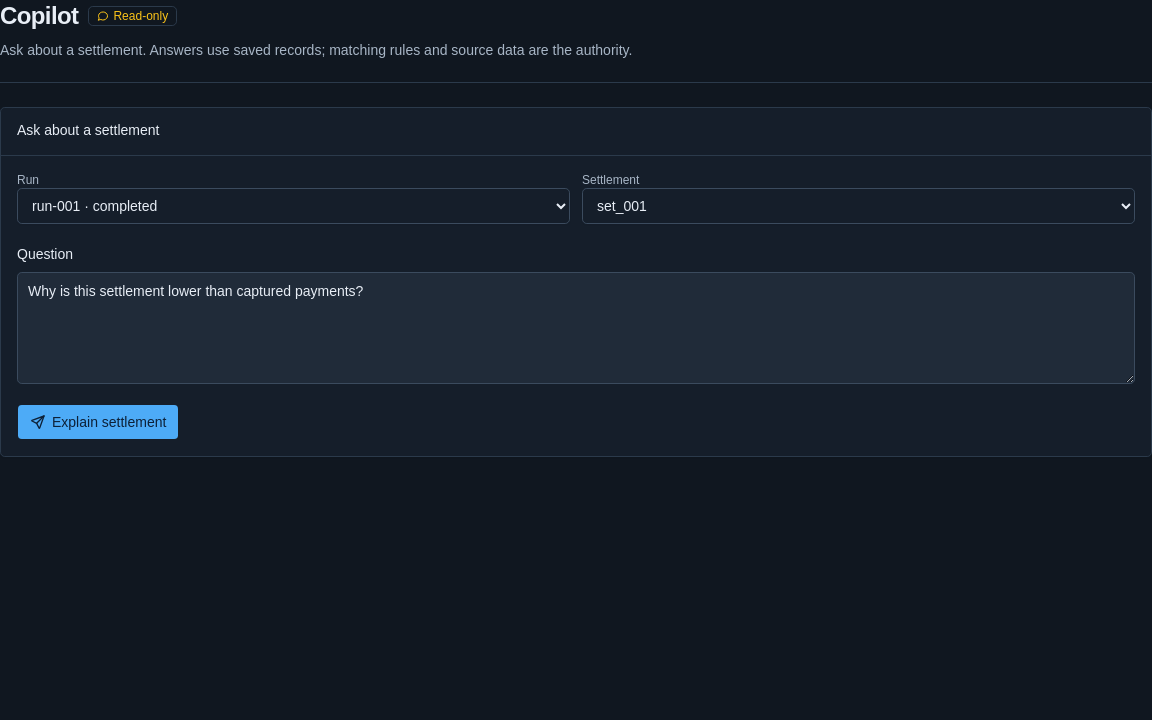
Test: Copilot page › renders a grounded answer with clickable citations and calculation
Check: the heading "Copilot" is shown, box left=0, top=0, right=78, bottom=32
Click the button "Explain settlement": click(98, 422) left=17, top=404, right=179, bottom=440
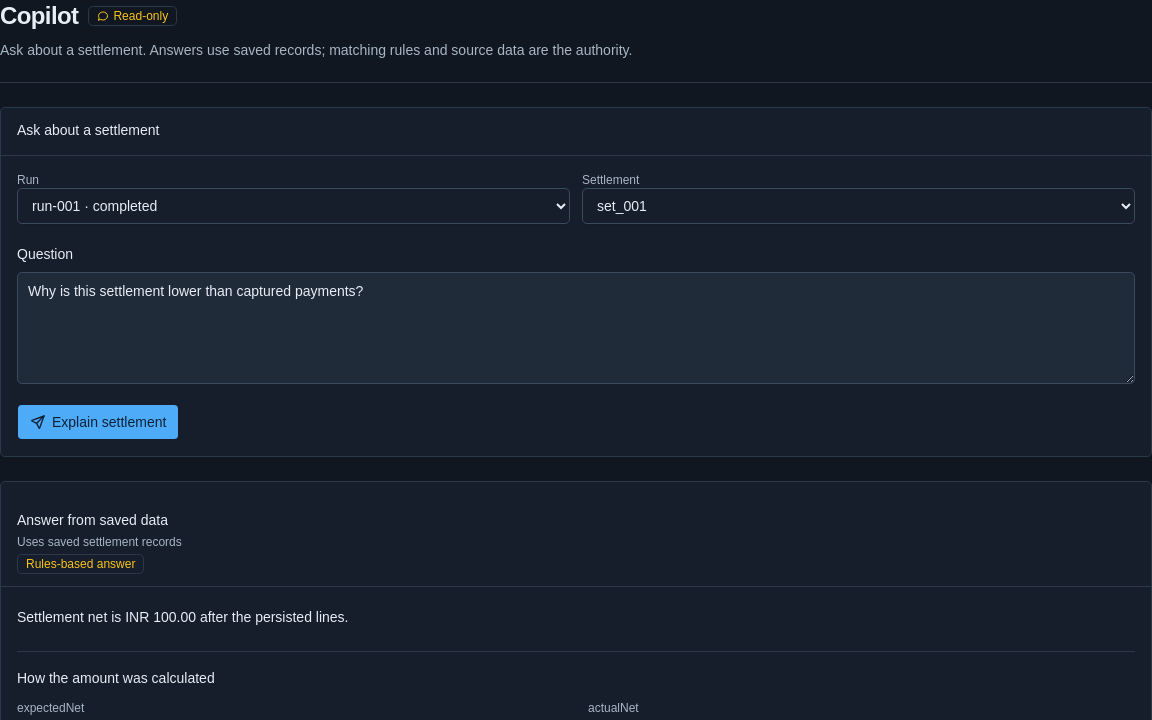
Check: the text "Settlement net is INR 100.00 after the persisted lines." is shown, box left=17, top=609, right=348, bottom=625
Check: the text "Rules-based answer" is shown, box left=17, top=554, right=144, bottom=574
Check: the text "expectedNet" is shown, box left=17, top=701, right=84, bottom=715
